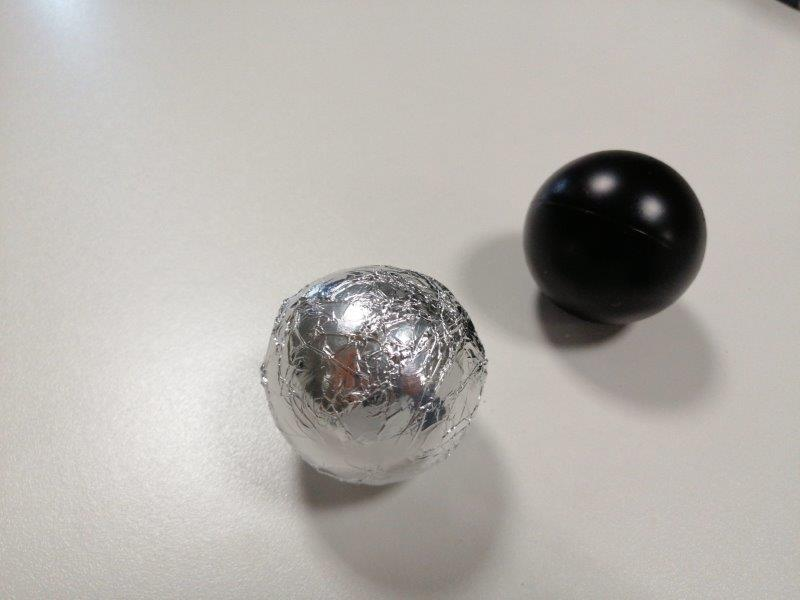bianca: (266, 264, 486, 486)
nera: (524, 148, 708, 325)
